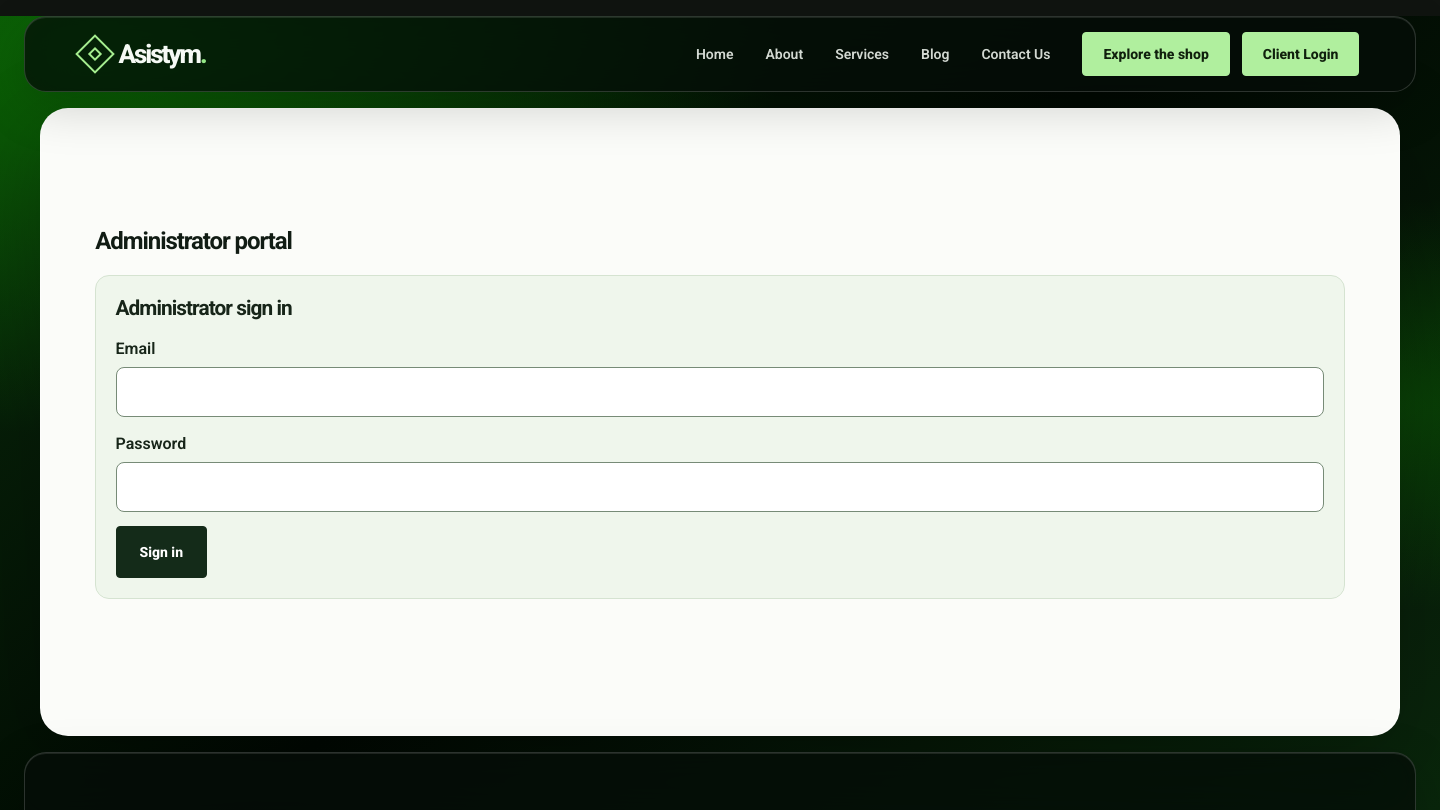
administrator can replace an initial password without creating a session first
Type "admin@example.com" into the field labelled "Email" at {"x": 720, "y": 392}, box 116,367 -> 1324,417
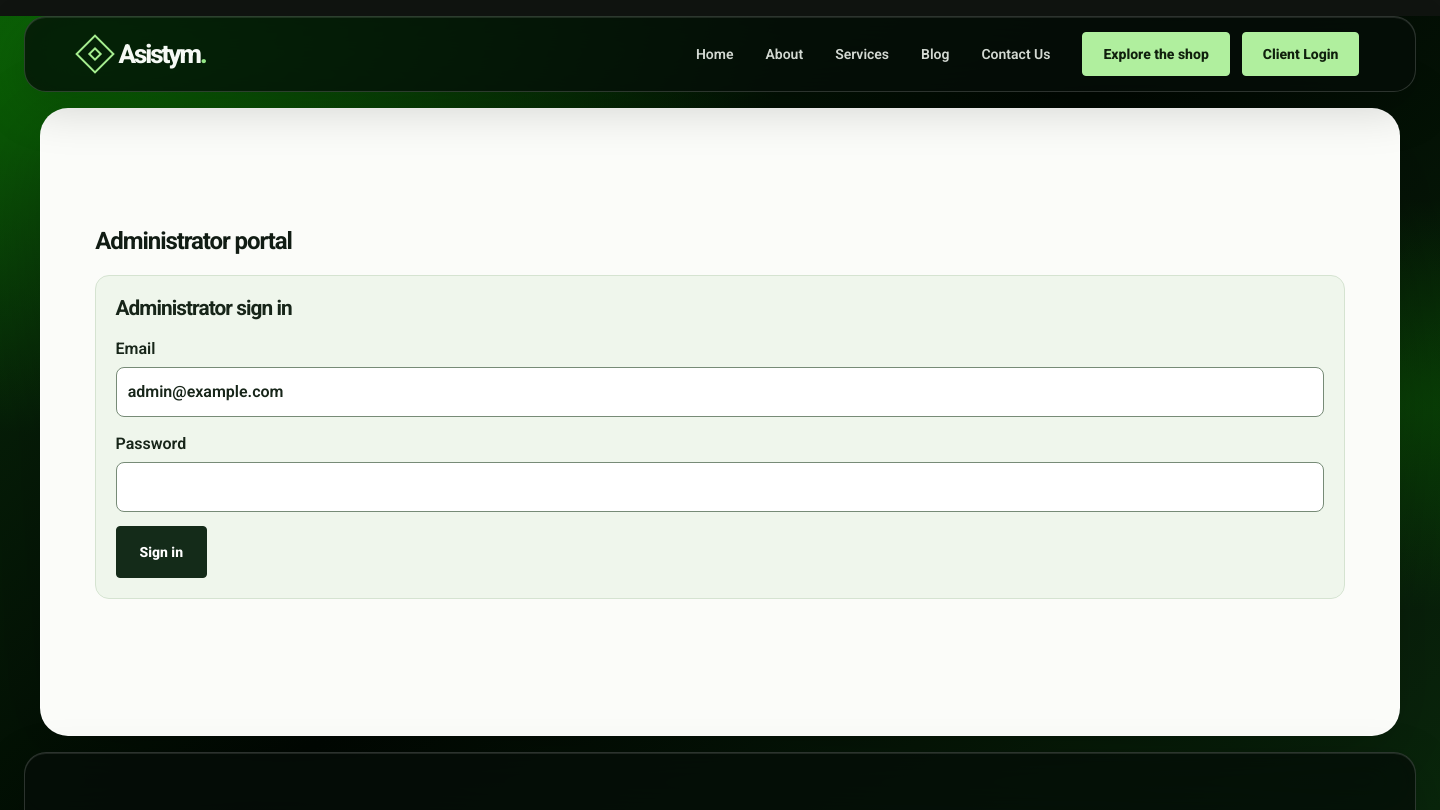
Type "temporary-password" into the password field labelled "Password" at {"x": 720, "y": 487}, box 116,462 -> 1324,512
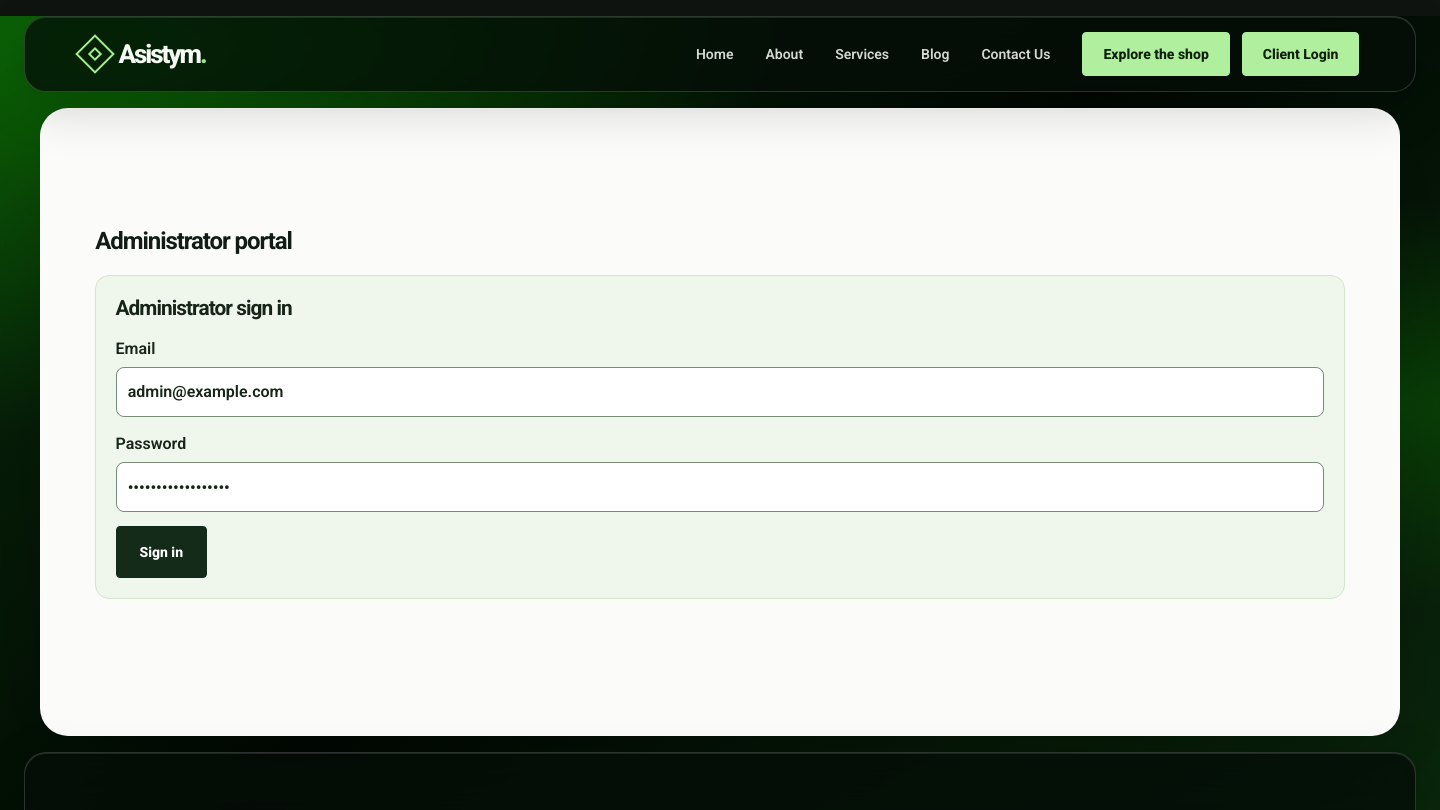
Click the button "Sign in" at {"x": 161, "y": 552}, box 116,526 -> 207,578
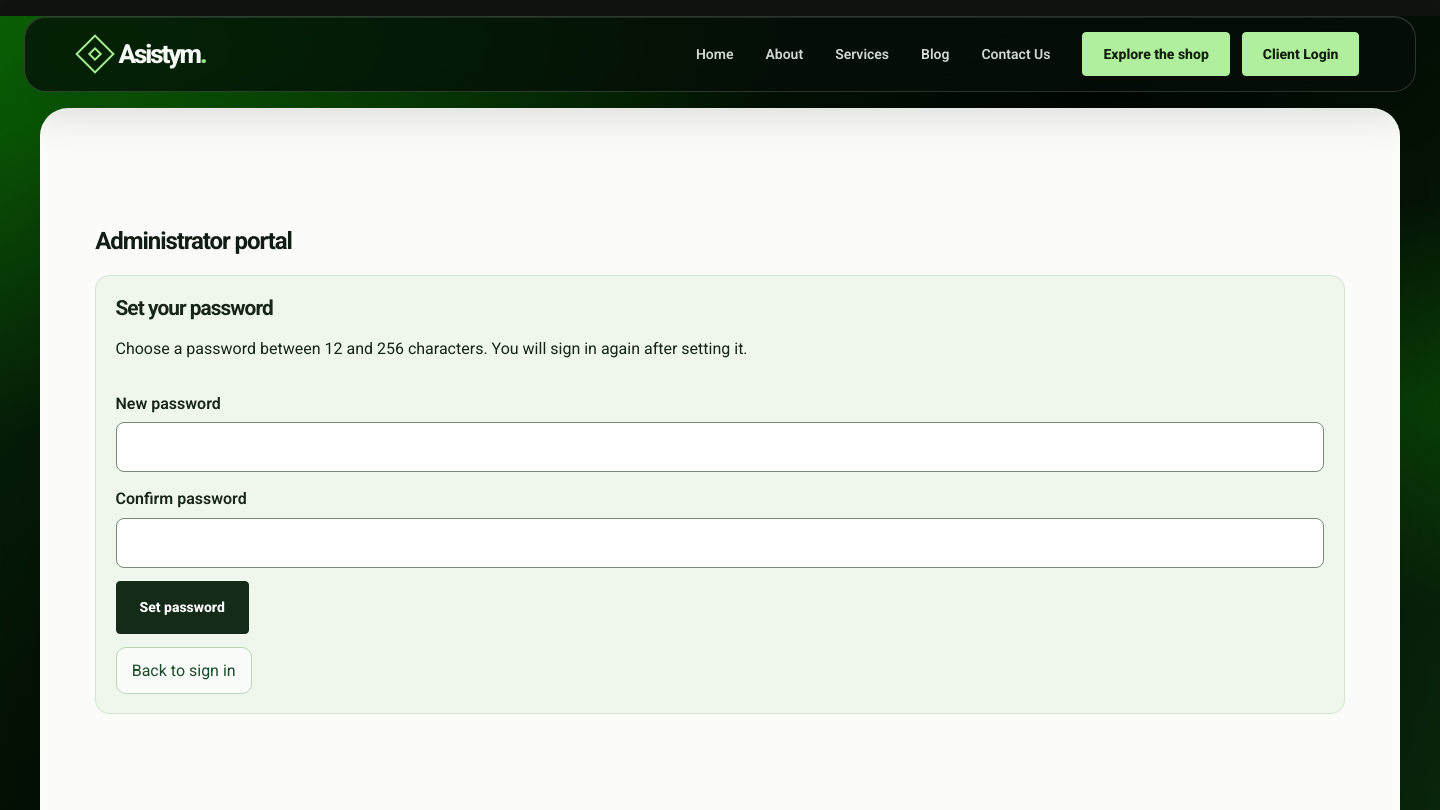
Type "new password for test" into the password field labelled "New password" at {"x": 720, "y": 447}, box 116,422 -> 1324,472
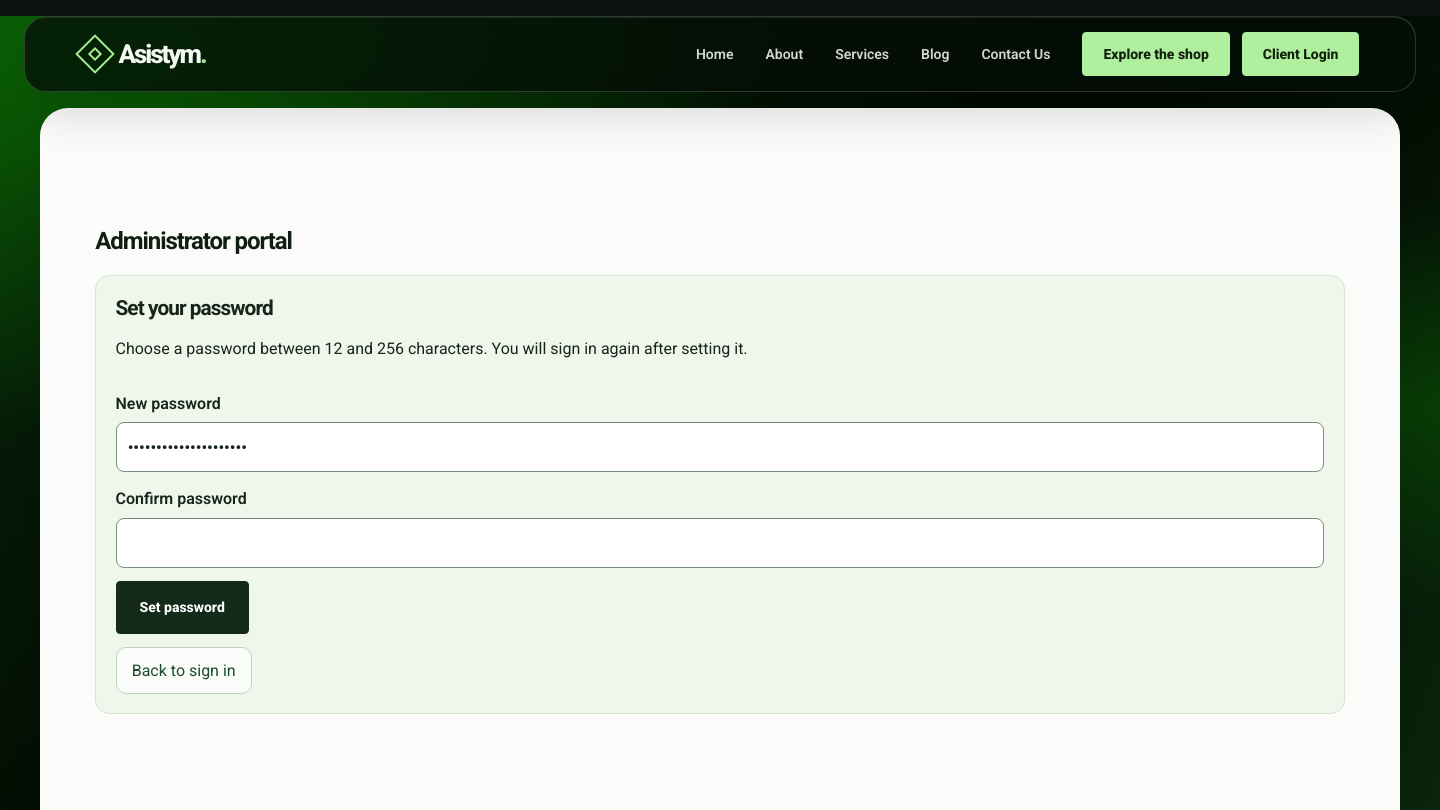
Type "new password for test" into the password field labelled "Confirm password" at {"x": 720, "y": 543}, box 116,518 -> 1324,568
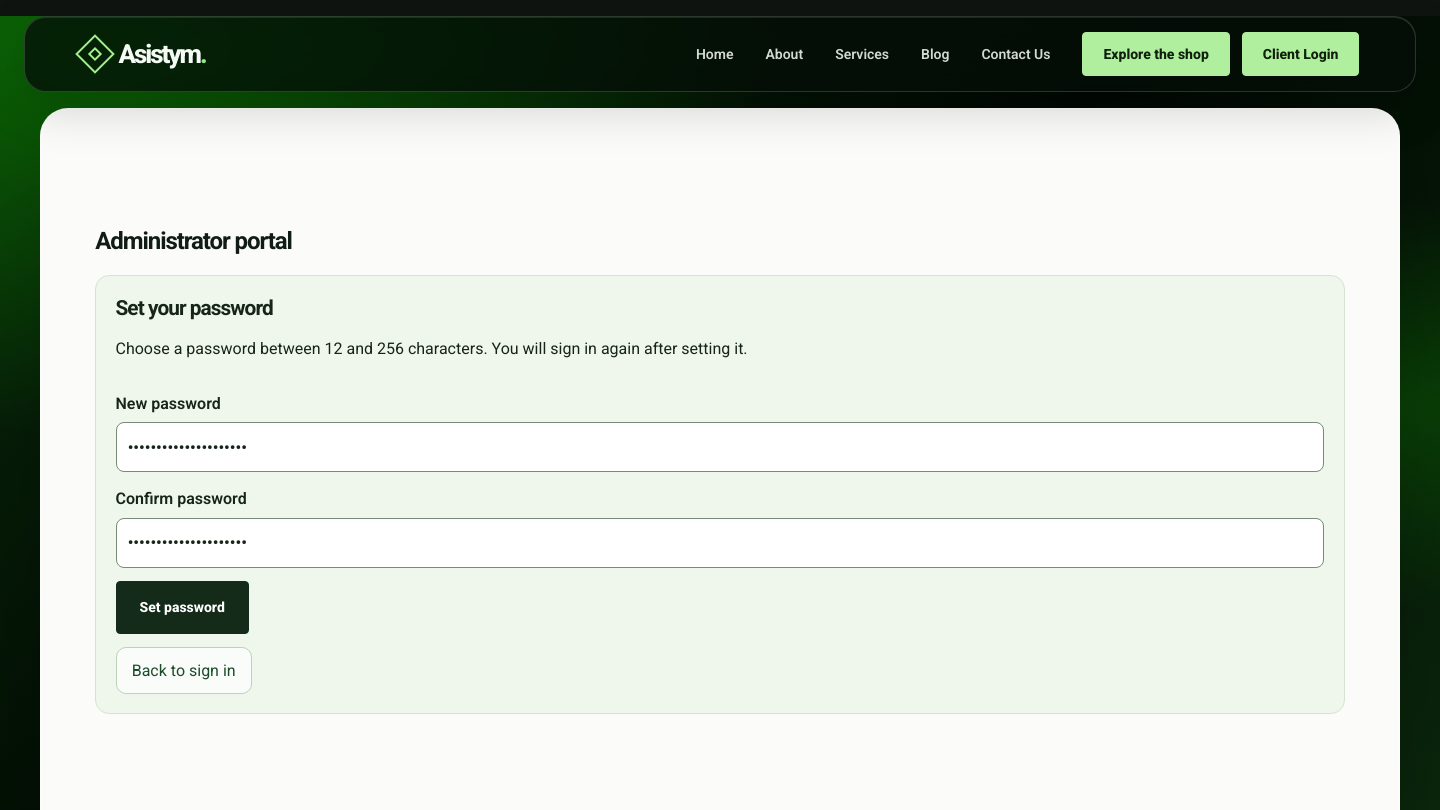
Click the button "Set password" at {"x": 182, "y": 607}, box 116,581 -> 249,634
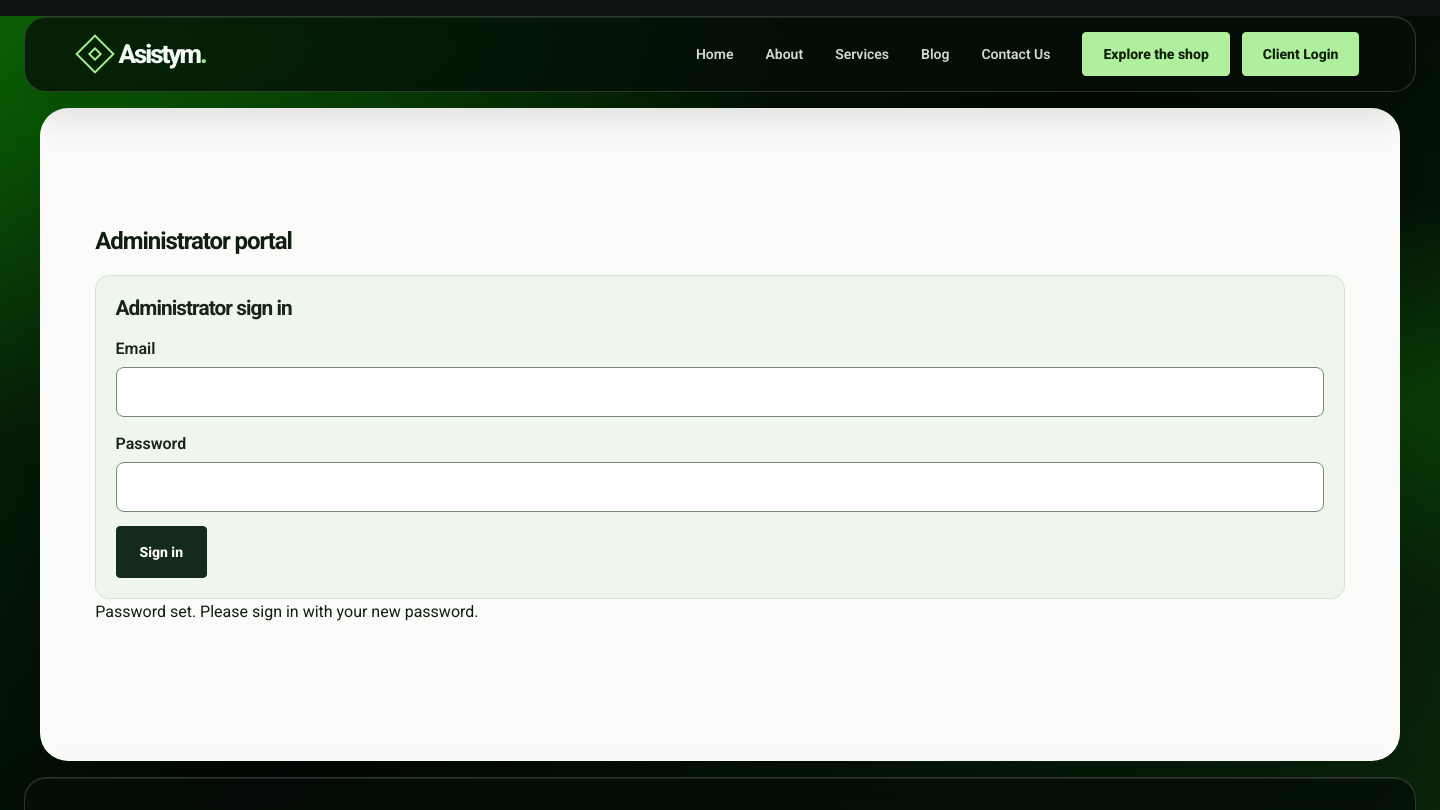
Now the text "Password set. Please sign in with your new password." is shown, box 95,602 -> 478,620
